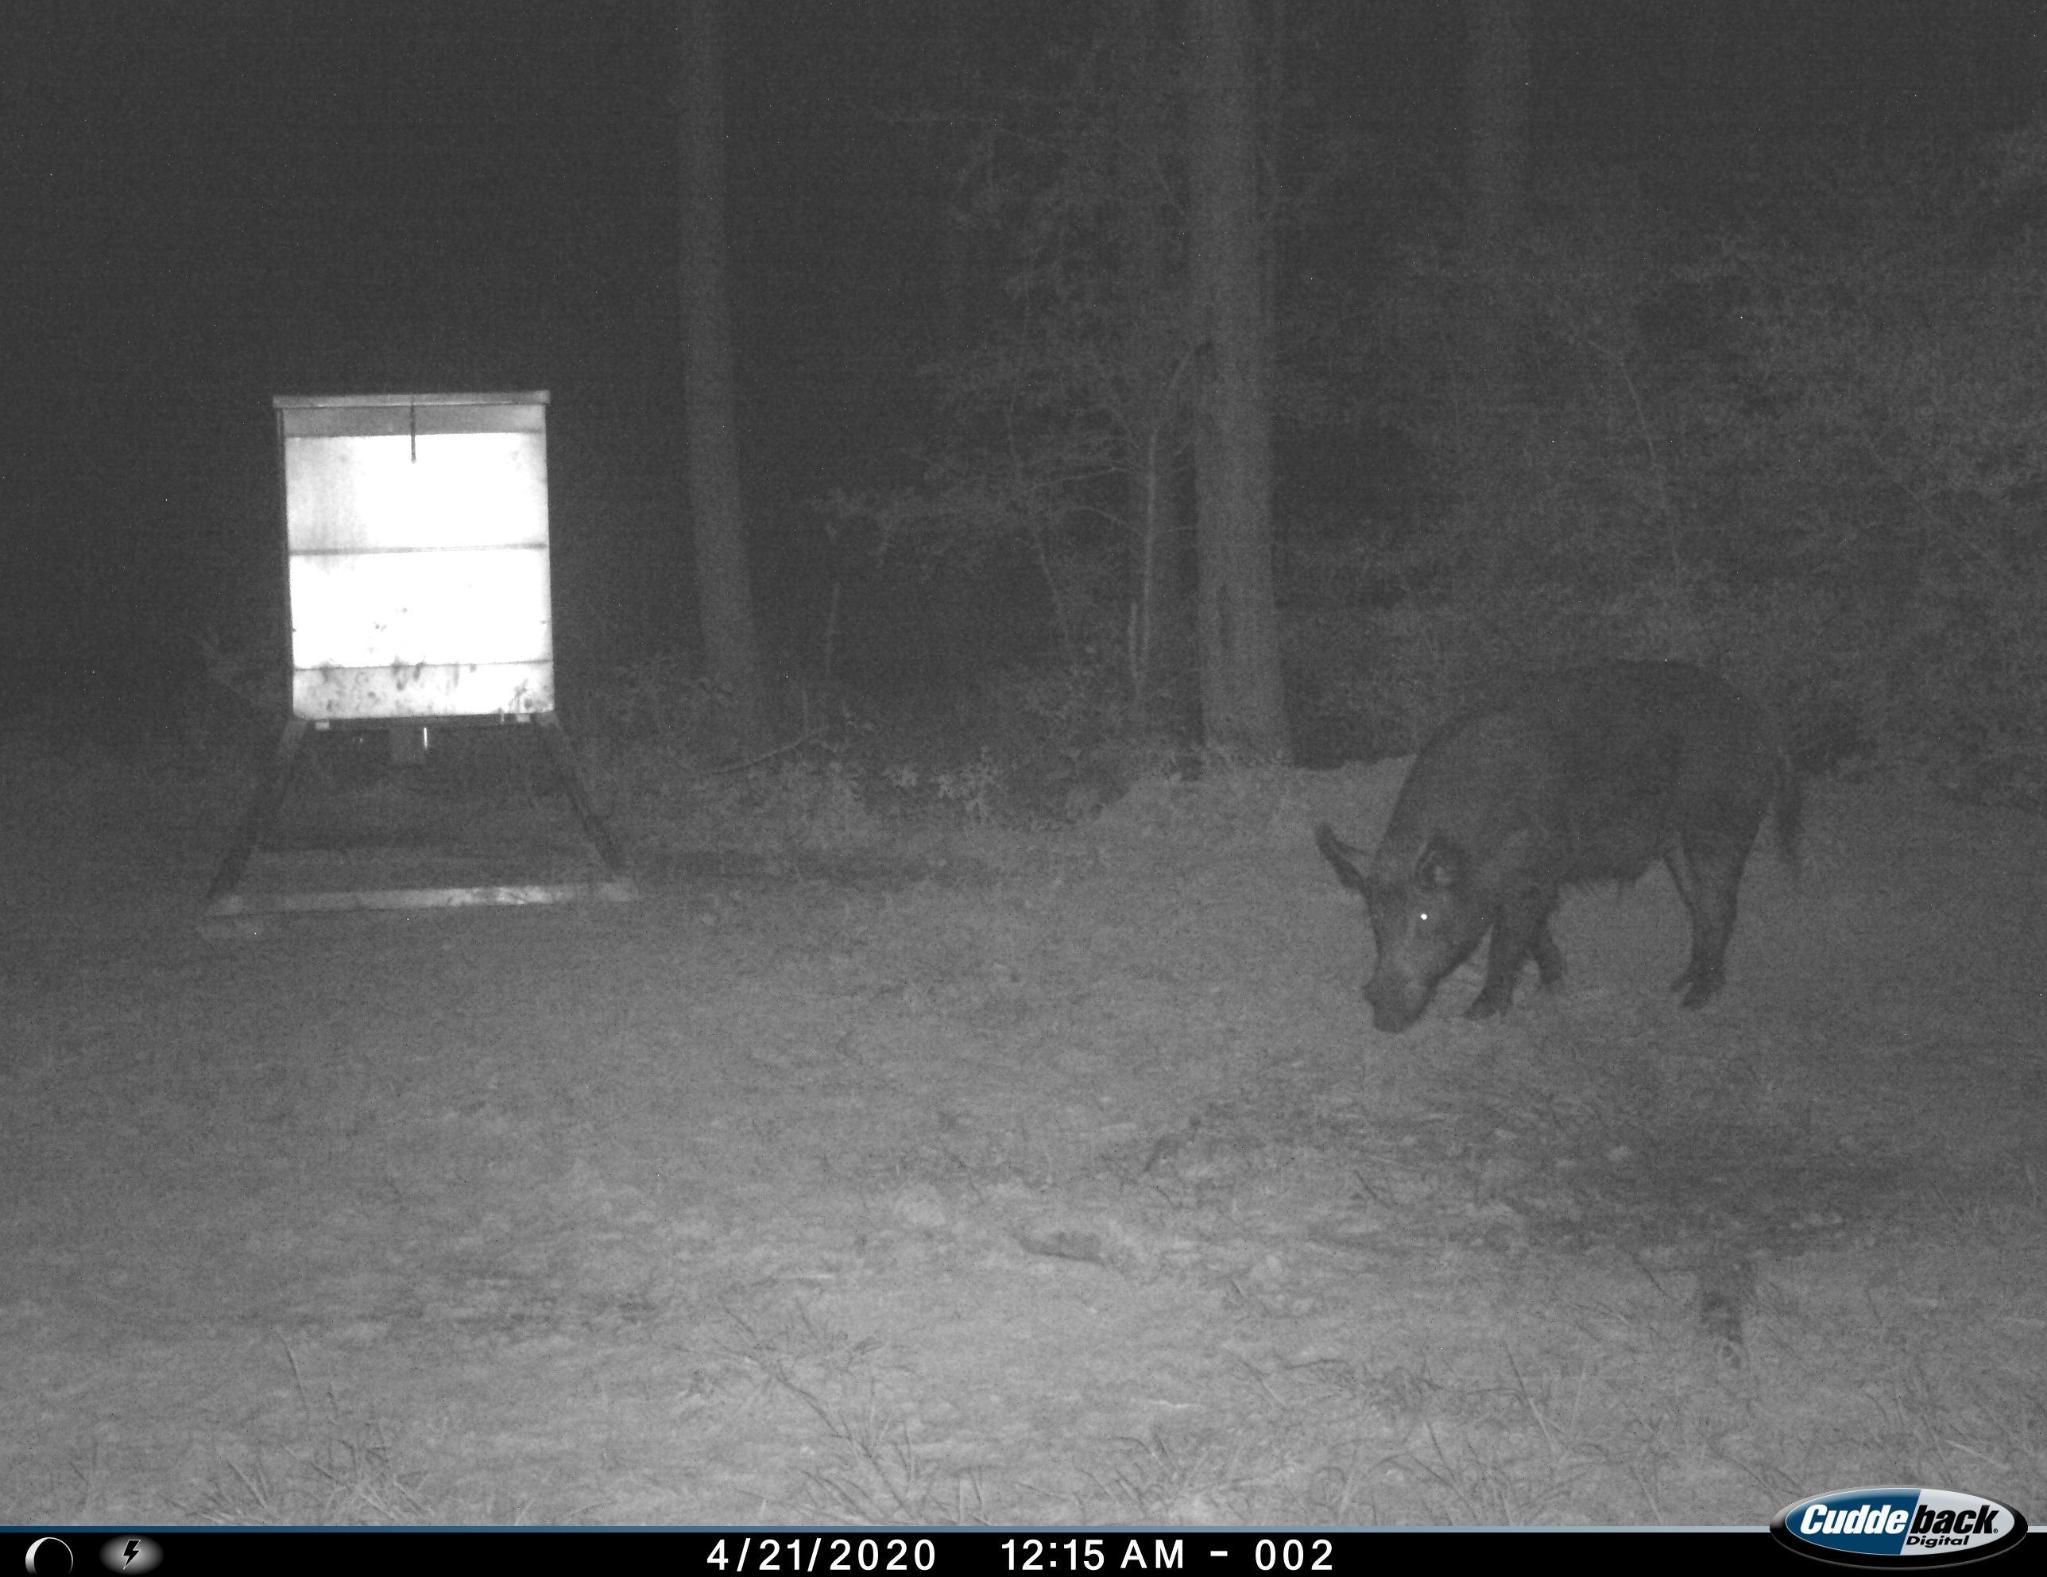Hog: (1293, 653, 1837, 1042)
